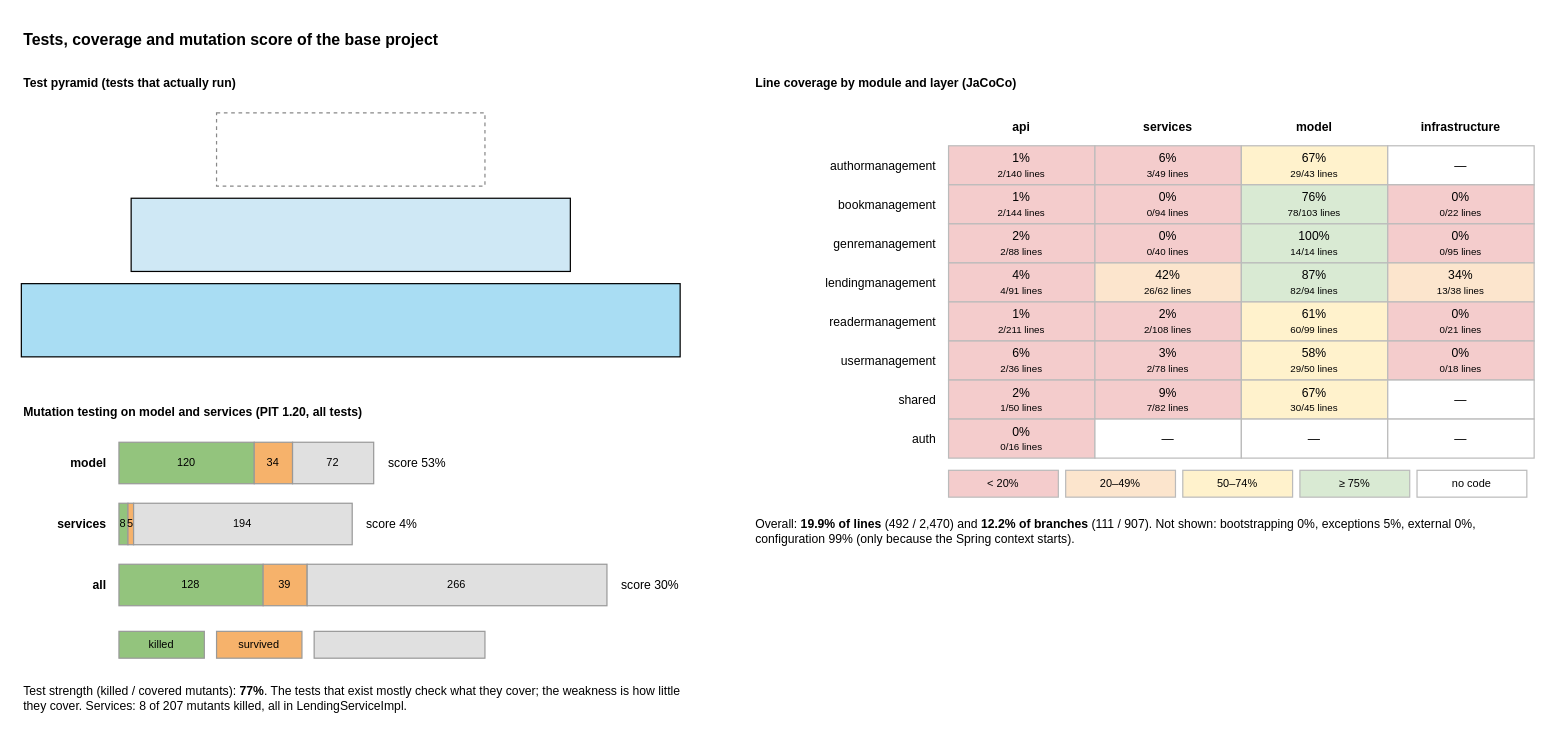
Some shapes in this 1556 by 749 pixel diagram are drawn without their labels. Here are the shapes that lost their labels. From the top down, the box of each, then its label:
(215, 112, 485, 186): API / end-to-end: 0 automated 4 commented out, Postman by hand
(130, 197, 570, 271): Spring integration: 13 tests 5 classes (+1 empty), H2 in-memory
(20, 282, 680, 357): Domain unit: 89 tests 14 classes, value objects and aggregates only, no Spring
(313, 630, 485, 658): not covered by any test
